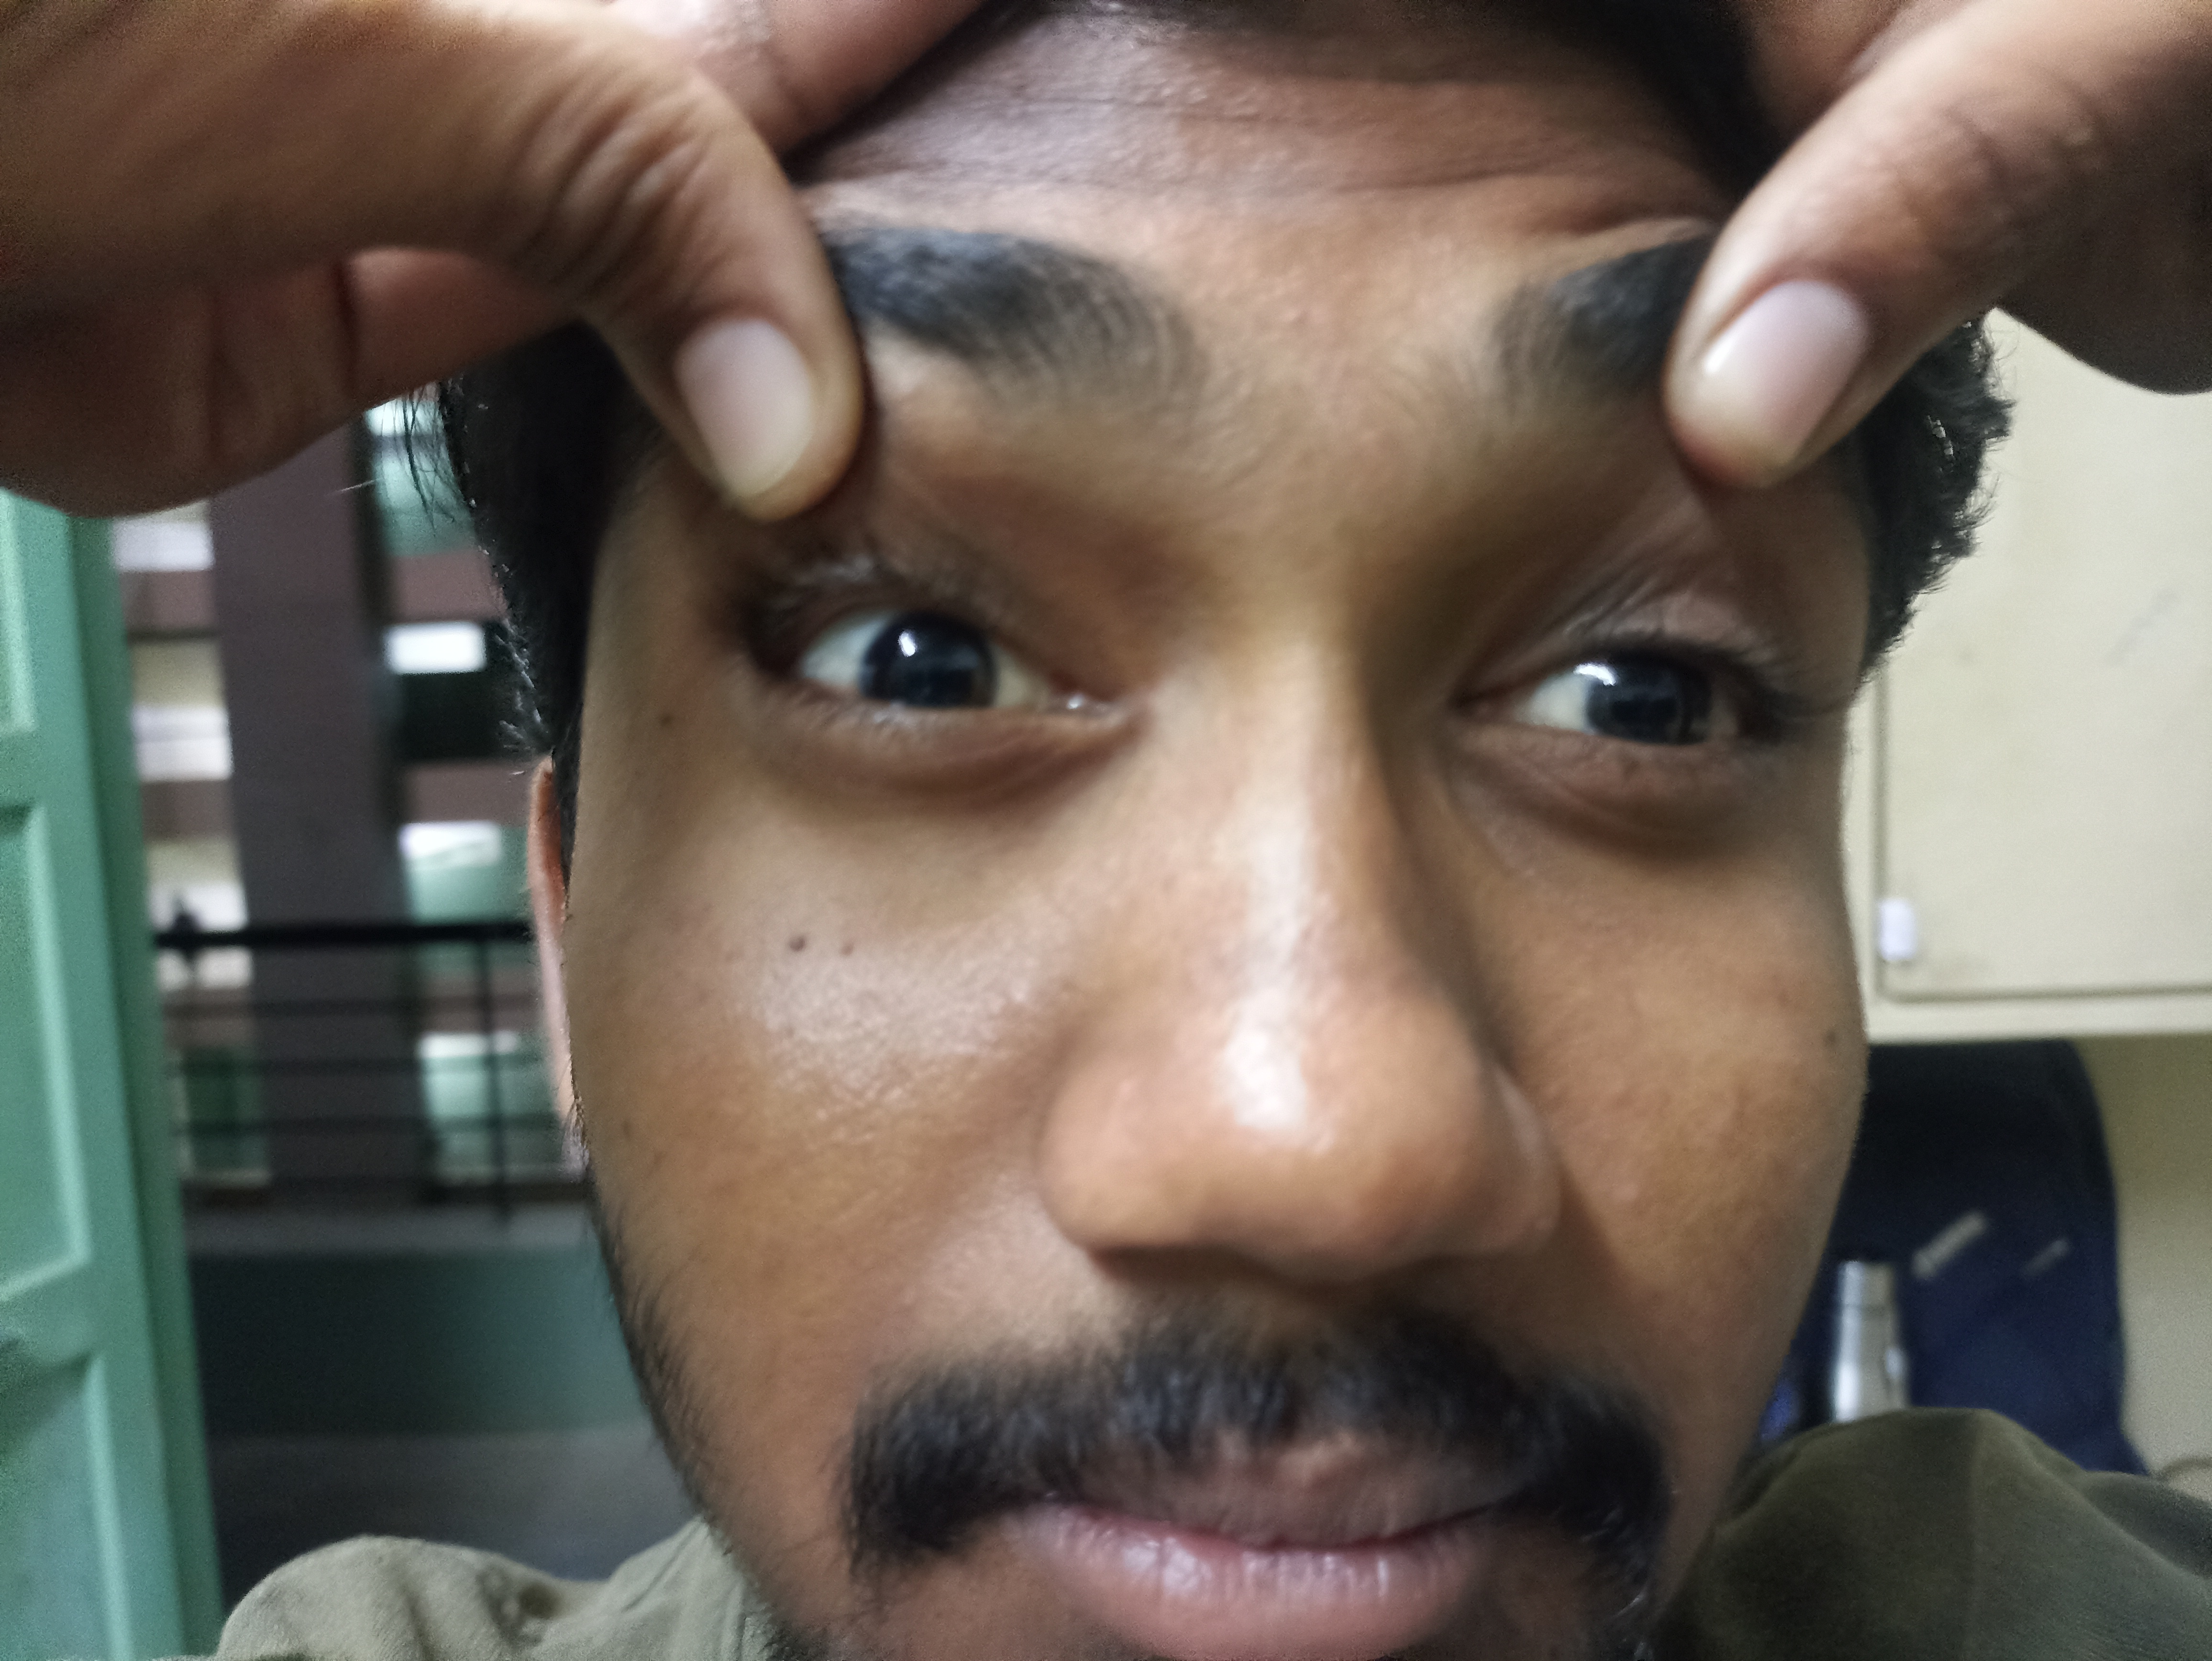EYE DOWN: (483, 309, 1198, 932), (1361, 302, 1968, 972)
